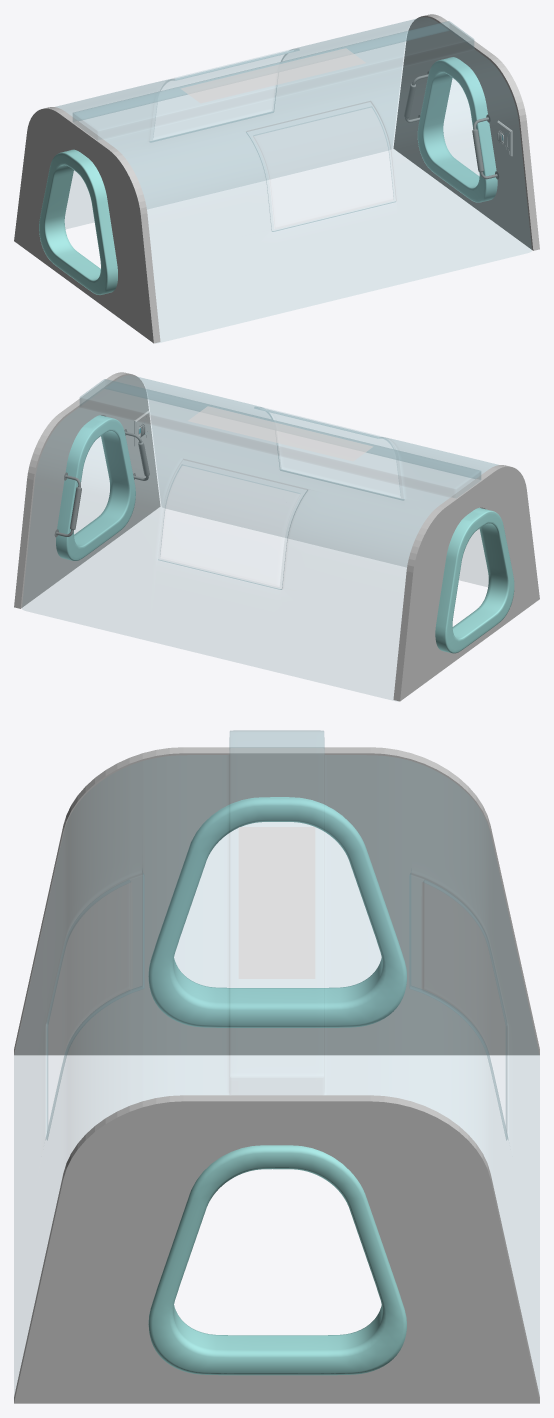
Rendered from CarriageCover01.fbx.
3 renders of one model, top to bottom at view 1: azimuth 30°, elevation 25°; view 2: azimuth 150°, elevation 25°; view 3: azimuth 270°, elevation 25°, orthographic. The views are drawn at different scales.
Visible parts, largest first — view 1: polySurface14, polySurface6, polySurface5, polySurface15, polySurface7, polySurface11; view 2: polySurface14, polySurface6, polySurface5, polySurface15, polySurface7, polySurface12; view 3: polySurface14, polySurface5, polySurface6, polySurface15, polySurface7.
Boxes of the visible parts, left/top/right/bottom form: polySurface14: left=56, top=17, right=531, bottom=342; polySurface6: left=14, top=107, right=160, bottom=343; polySurface5: left=393, top=14, right=539, bottom=250; polySurface15: left=39, top=149, right=117, bottom=294; polySurface7: left=417, top=57, right=497, bottom=202; polySurface11: left=472, top=114, right=499, bottom=179; polySurface14: left=22, top=375, right=497, bottom=700; polySurface6: left=393, top=465, right=539, bottom=701; polySurface5: left=14, top=372, right=160, bottom=608; polySurface15: left=435, top=507, right=514, bottom=653; polySurface7: left=56, top=415, right=135, bottom=560; polySurface12: left=54, top=472, right=81, bottom=537; polySurface14: left=14, top=730, right=539, bottom=1393; polySurface5: left=14, top=1095, right=539, bottom=1403; polySurface6: left=14, top=747, right=539, bottom=1055; polySurface15: left=148, top=797, right=406, bottom=1027; polySurface7: left=148, top=1145, right=406, bottom=1375.
Bounding box in the file's own units: 11.3 × 4.63 × 6.85.
